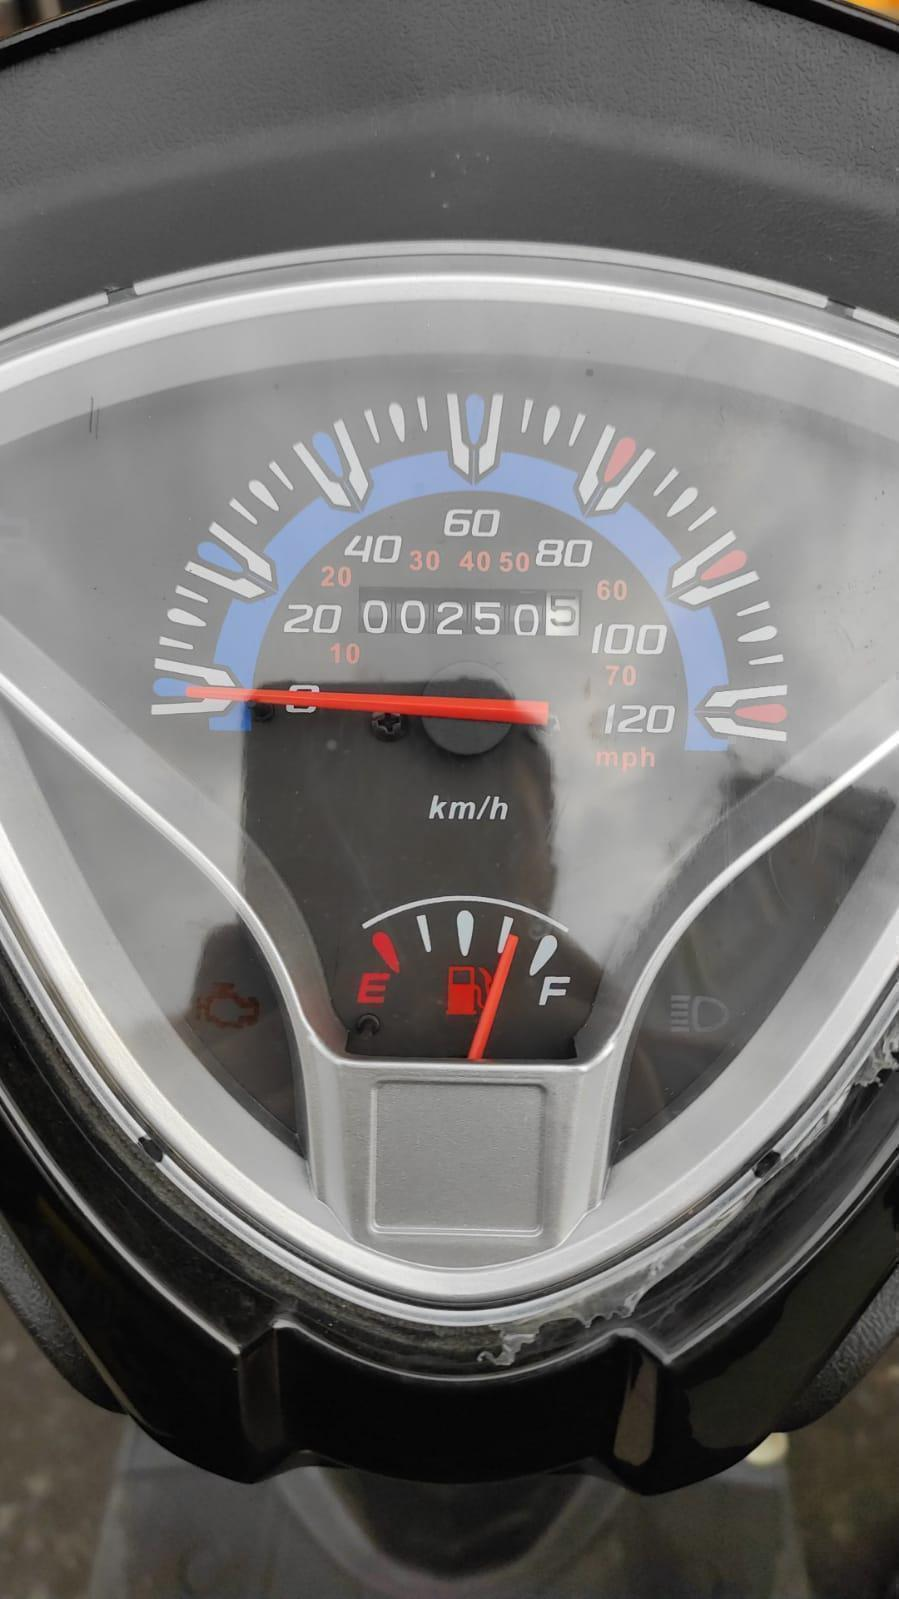0: (513, 600, 542, 635), (397, 599, 426, 633), (362, 597, 390, 633)
2: (435, 599, 467, 637)
5: (548, 591, 577, 630), (473, 599, 502, 636)
odometer: (357, 584, 582, 638)
